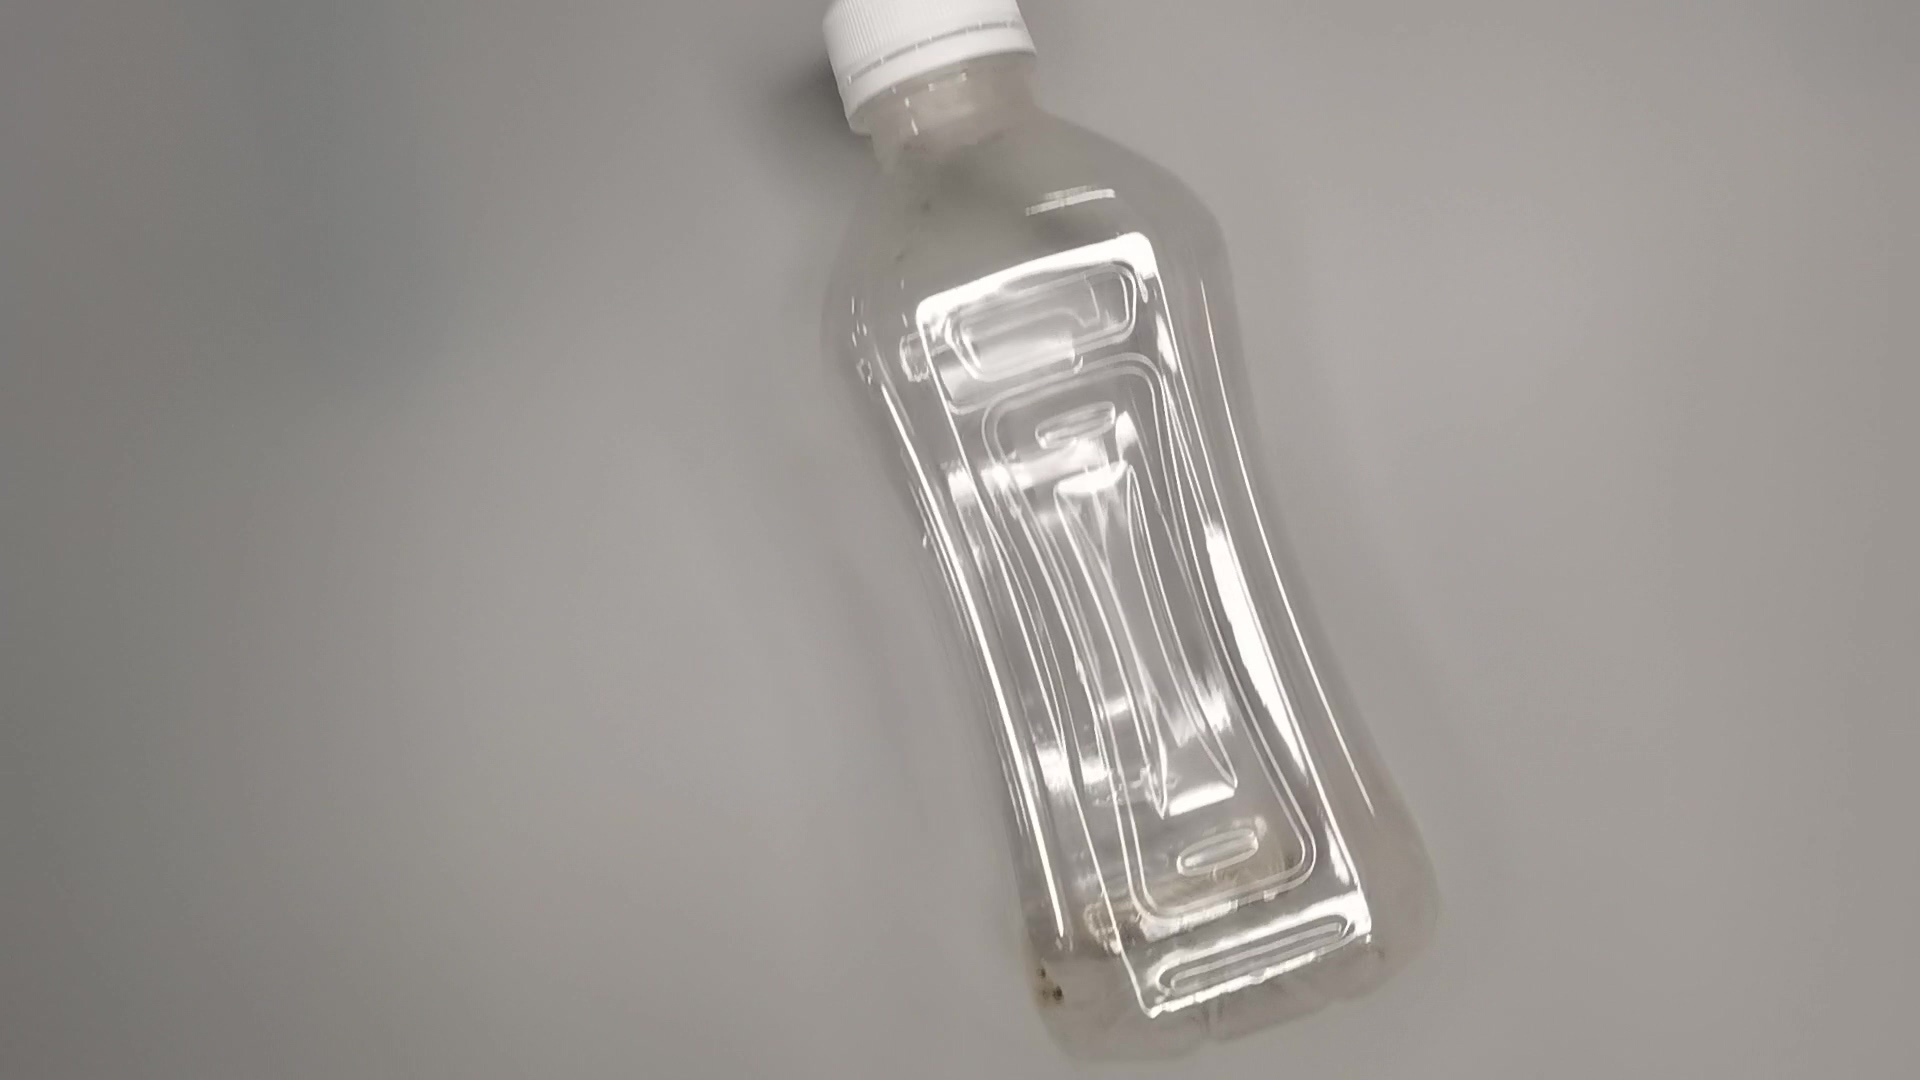bottle: (815, 1, 1455, 1071)
